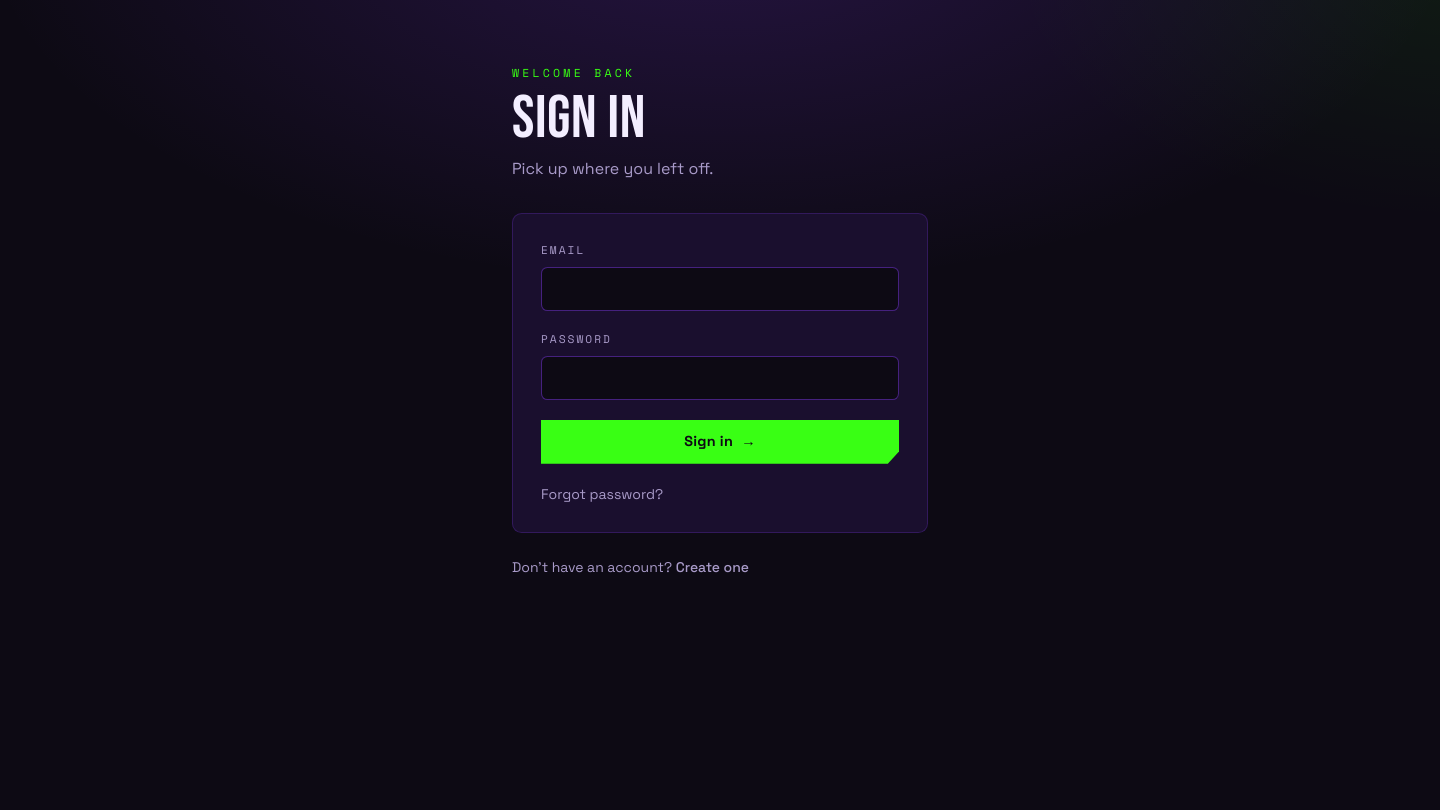
sign-in page › shows an inline error when sign-in fails
The image size is (1440, 810).
Type "a@b.com" into the field labelled "Email" at (720, 289), box [541,267,899,311]
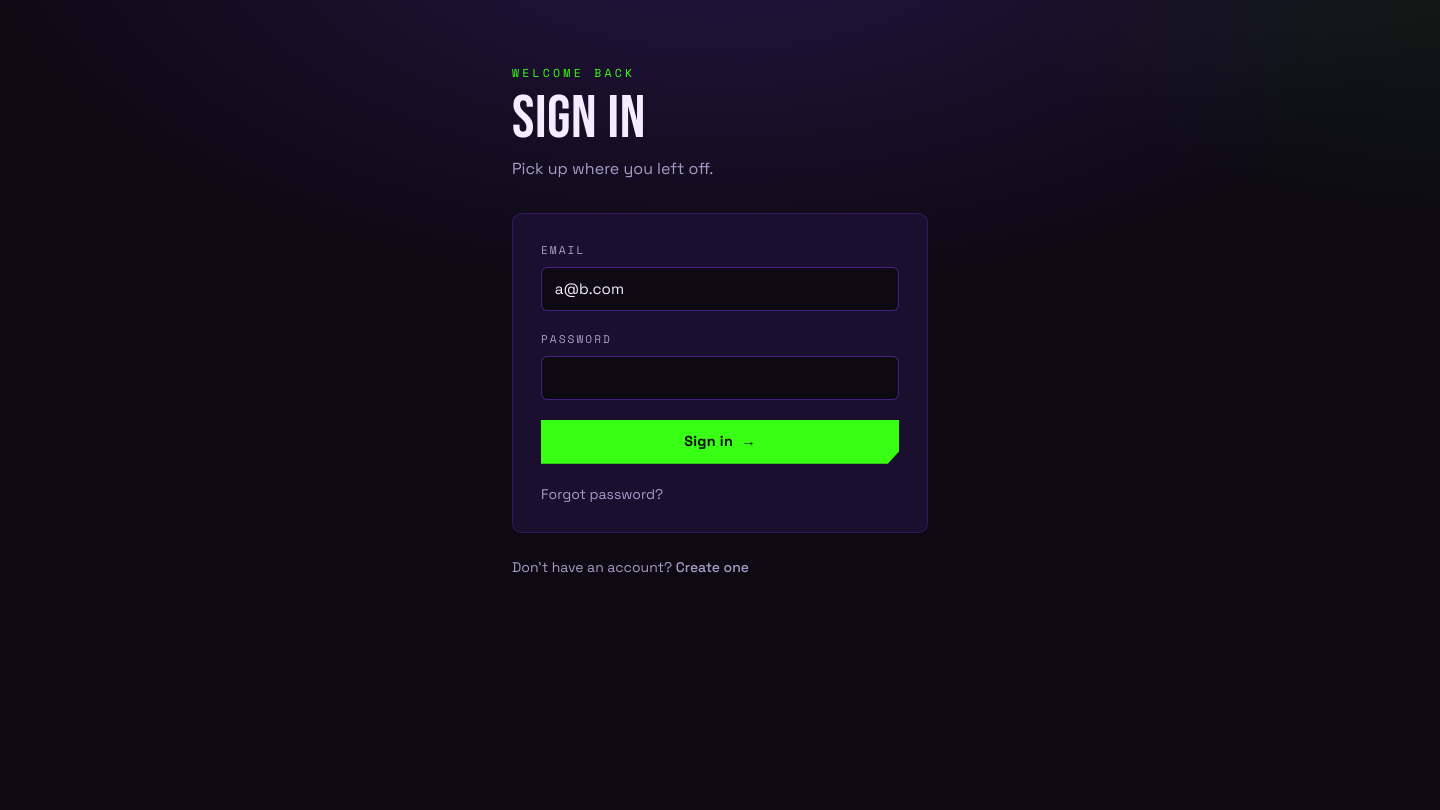
Type "hunter2pw" into the password field labelled "Password" at (720, 378), box [541,356,899,400]
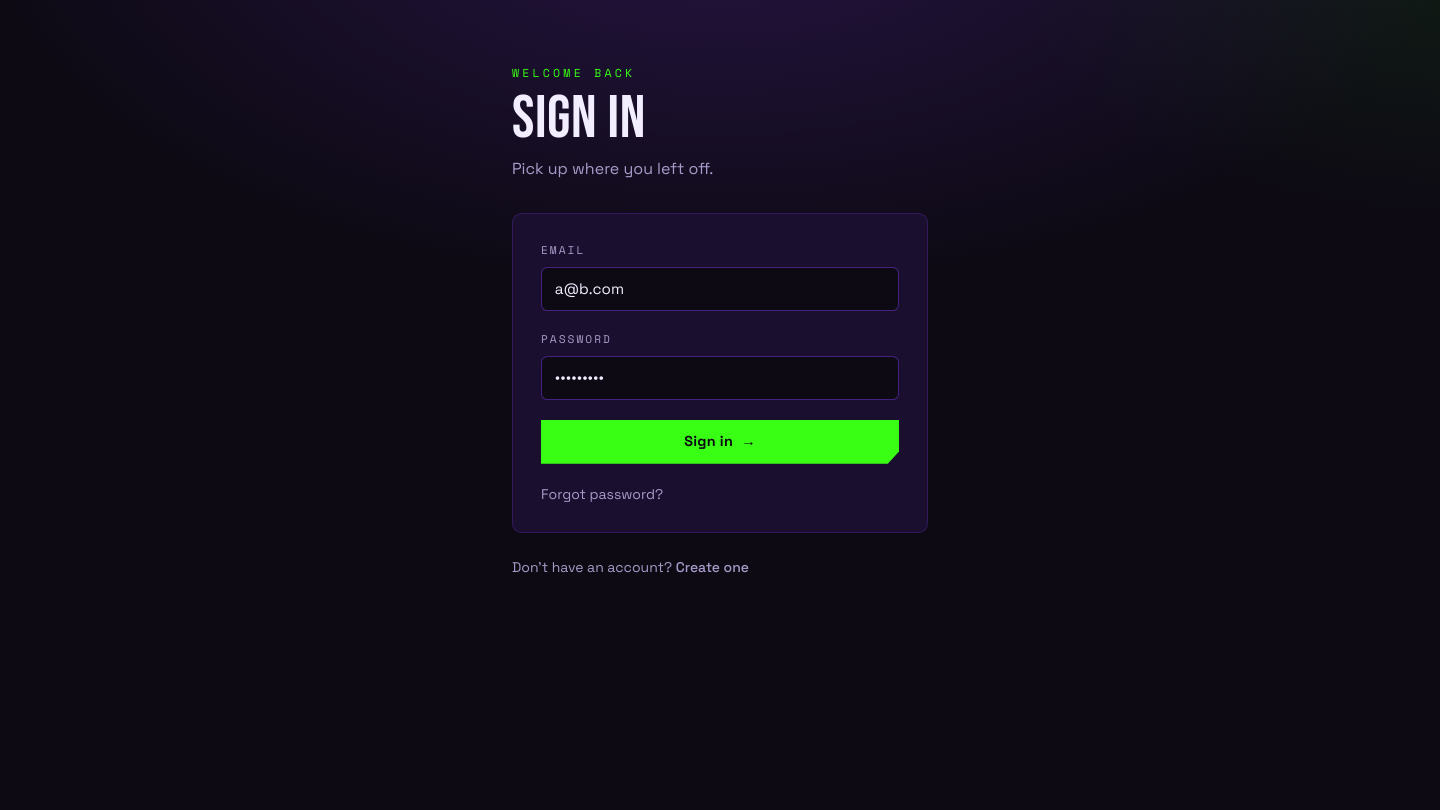
Click the button "Sign in →" at (720, 442), box [541,420,899,464]
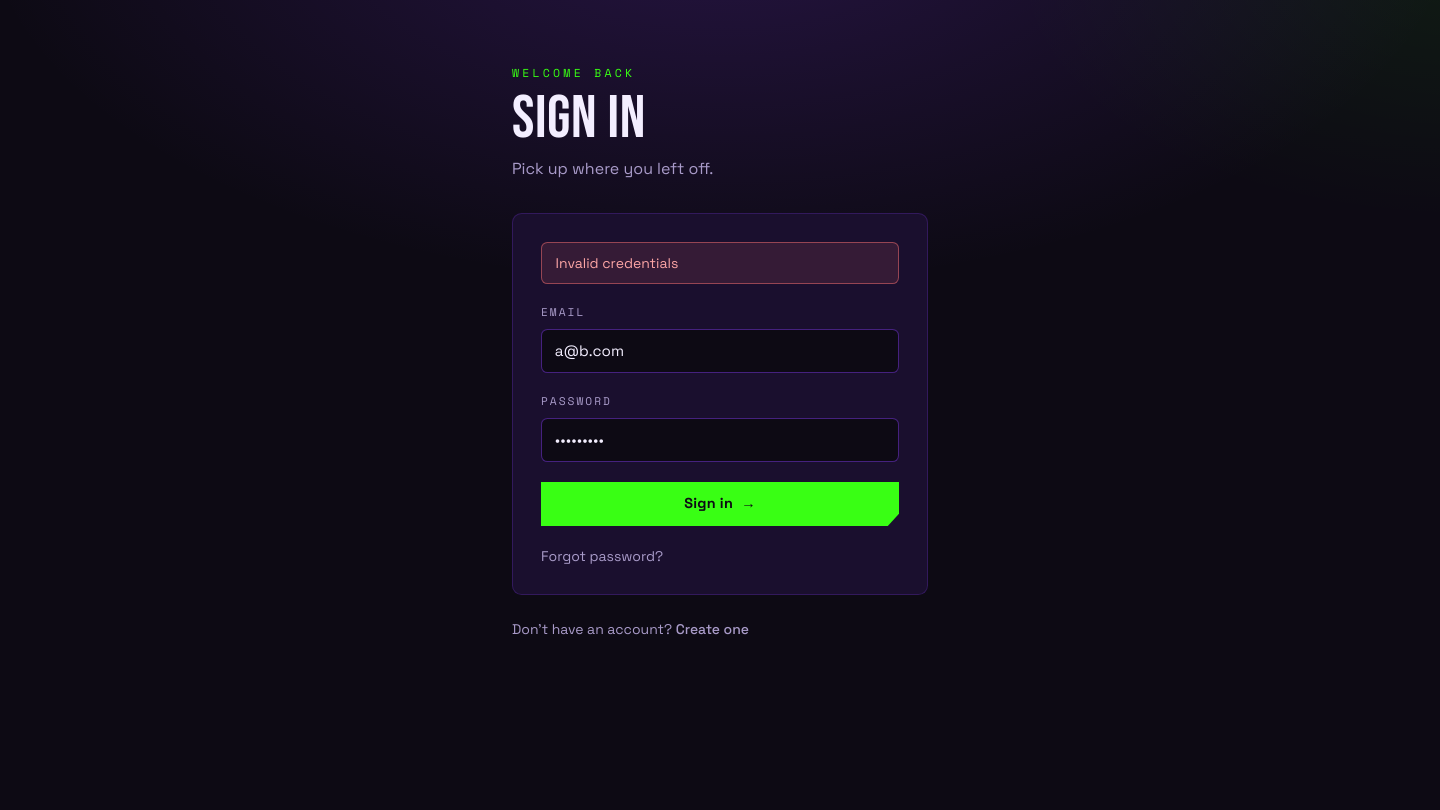
Expected: the message reads "Invalid credentials", [556,254,678,272]
